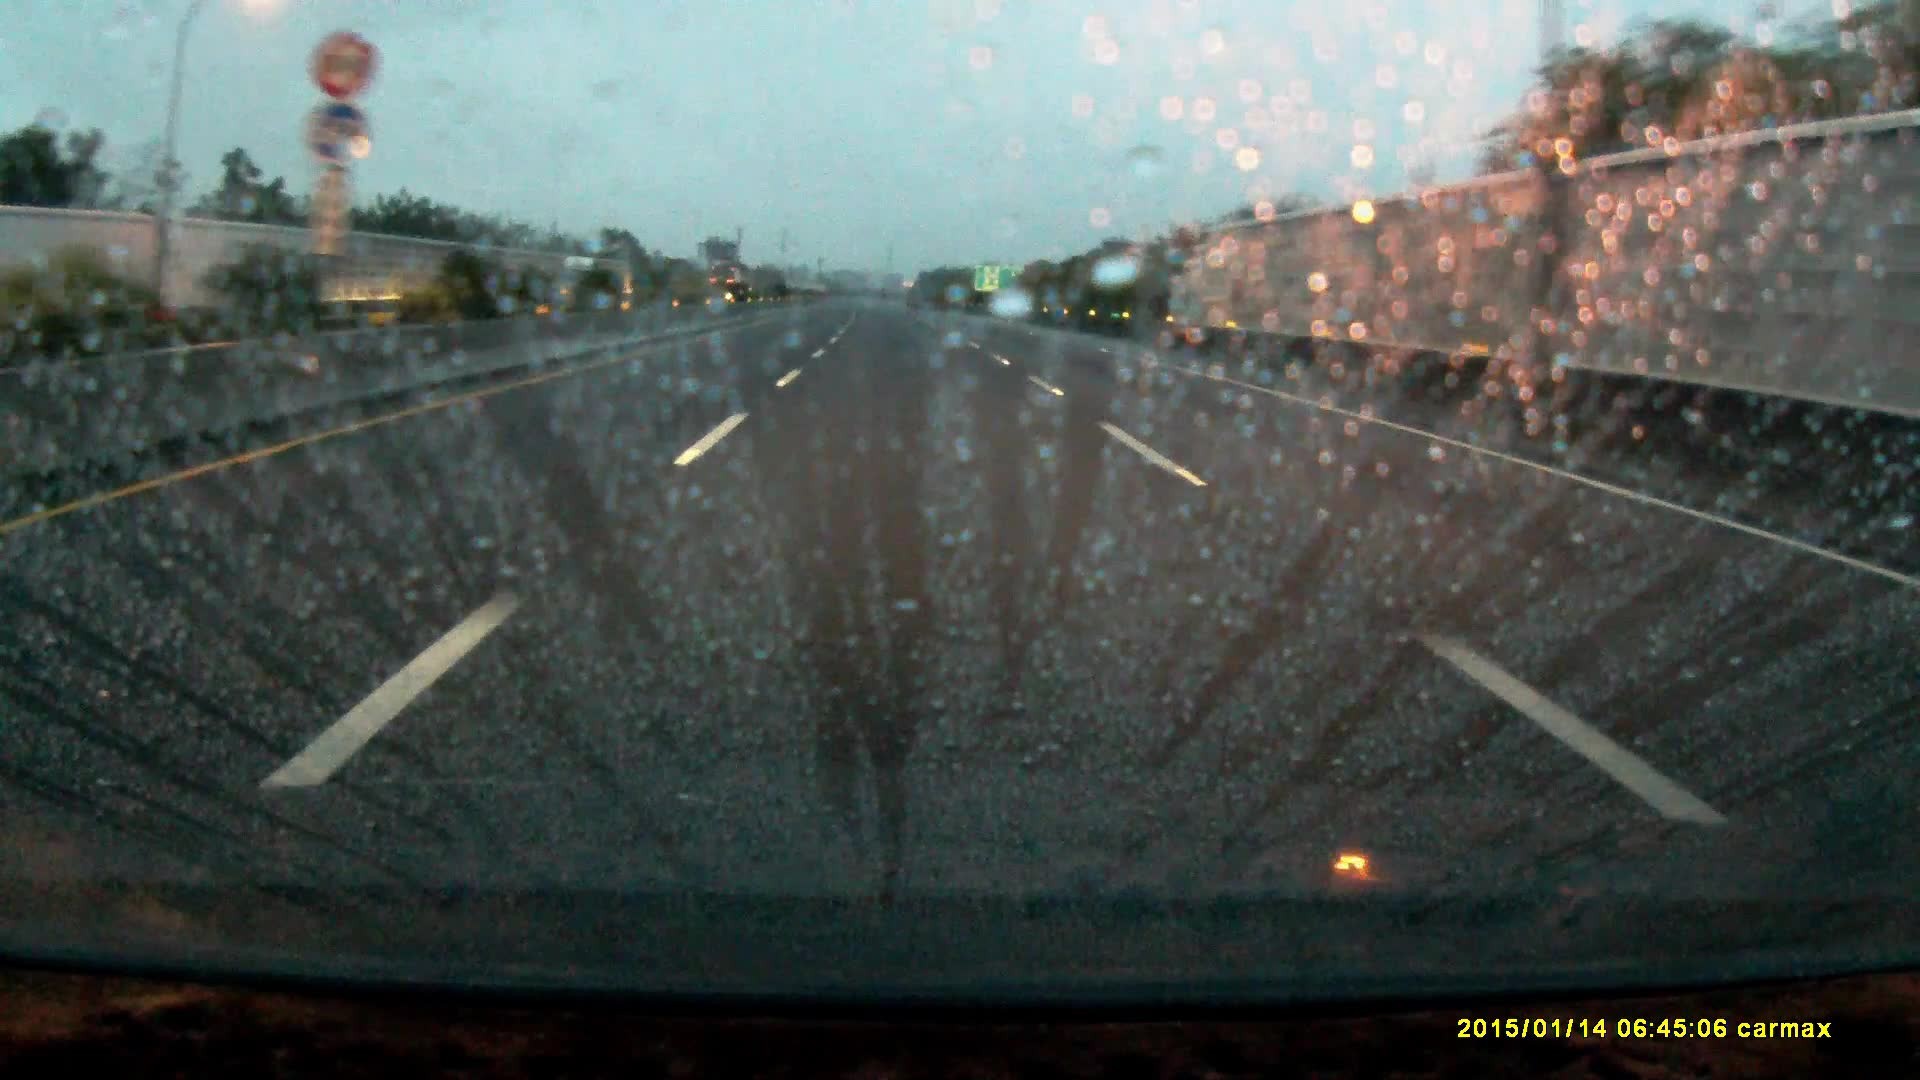vehicle: (556, 256, 620, 302), (705, 273, 742, 307)
